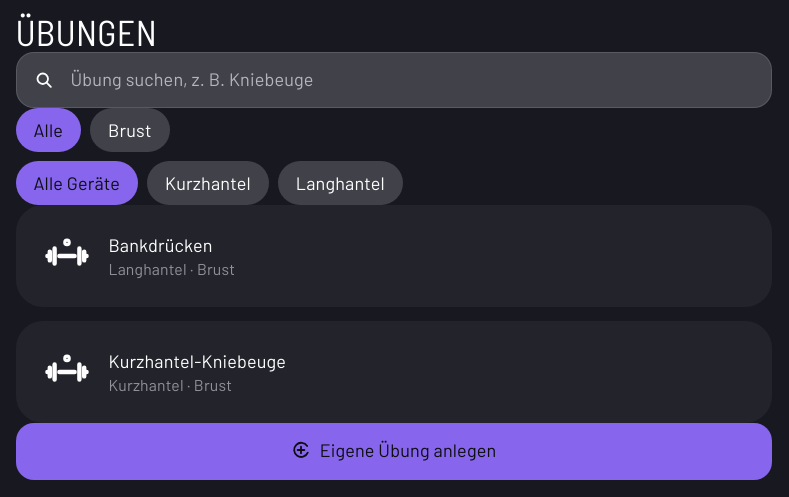
Test: ExercisesPage › combines the equipment filter with the muscle-group filter
Click the button "Brust" at point(130, 130), box [90,108,170,152]
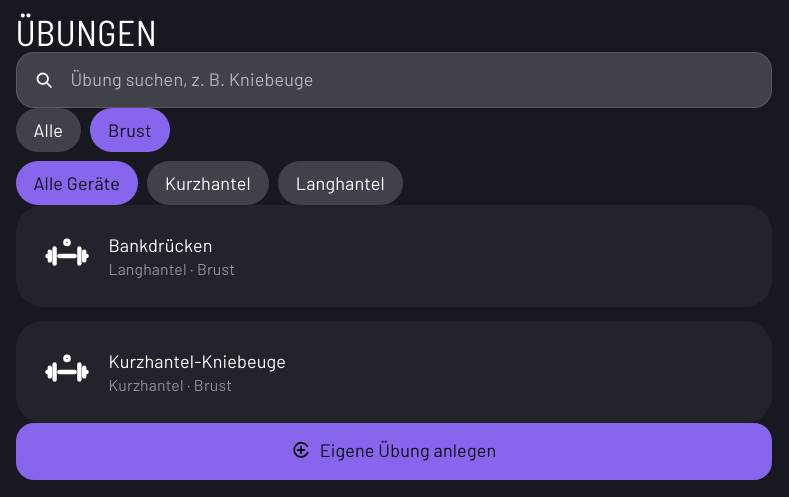
Click the button "Langhantel" at point(340, 183), box [278,161,403,205]
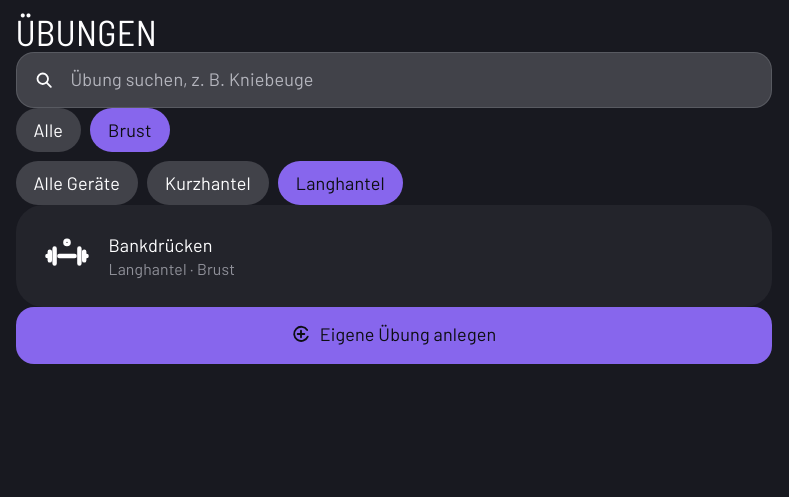
Expected: the text "Bankdrücken" is shown, [108,234,213,256]
Expected: the button "Kurzhantel-Kniebeuge" is gone
